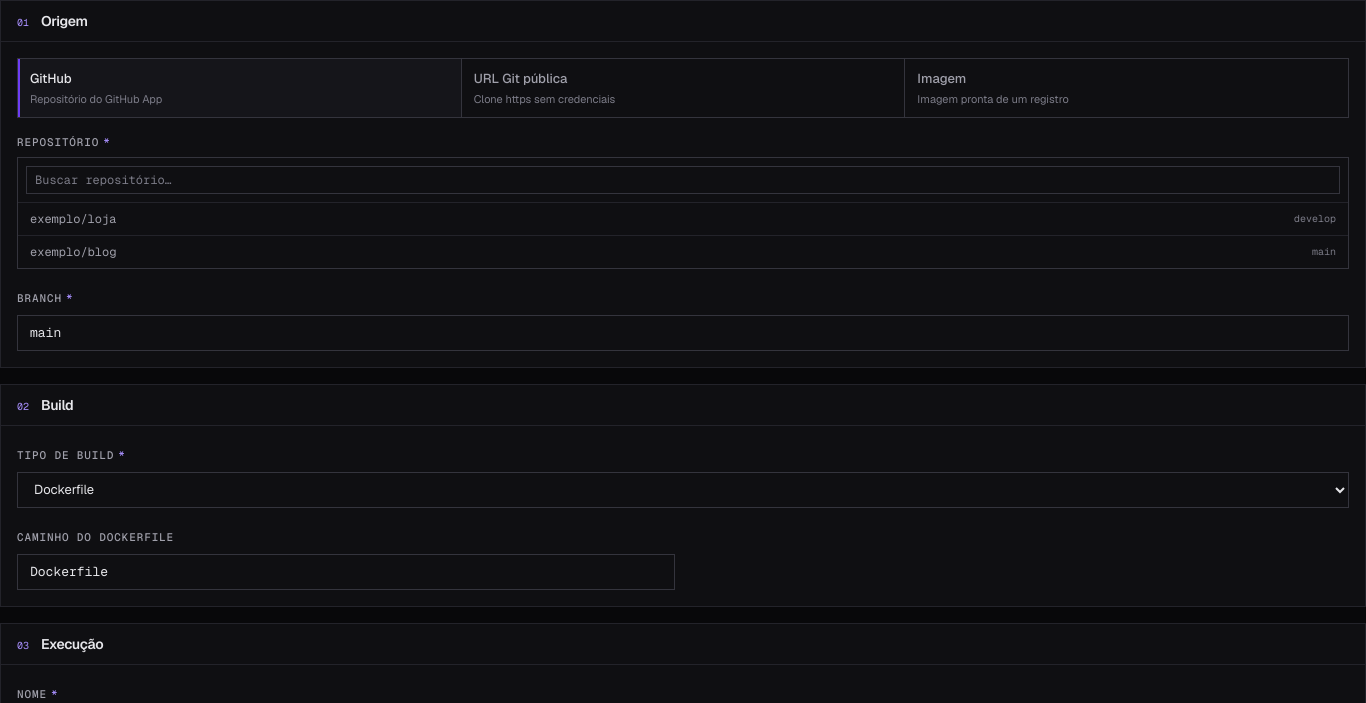
Test: AppForm › formulário mostra campos por origem e tipo de build
# Escolher o repositório preenche o branch padrão quando o branch está vazio.
Clear the field labelled "Branch *" at (683, 332), box [17,314,1349,350]
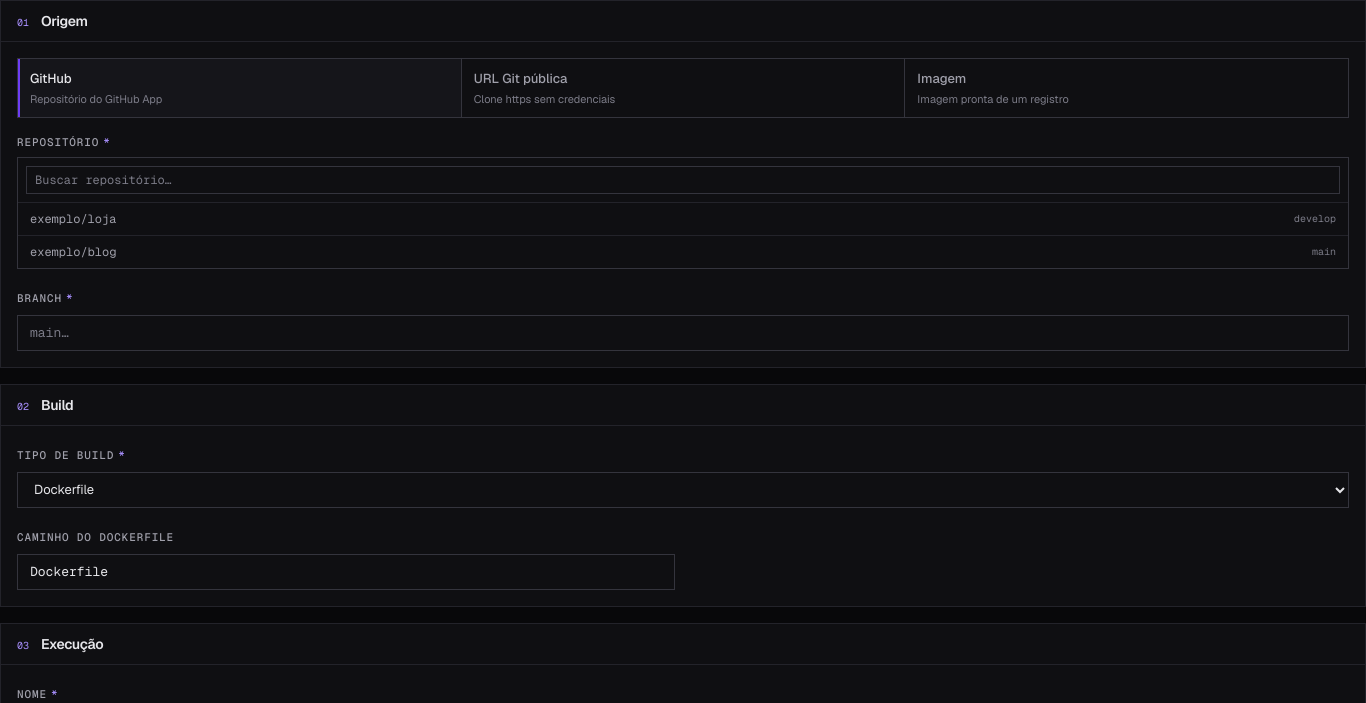
Click the button "exemplo/loja develop" at (73, 218), box [18,202,1348,234]
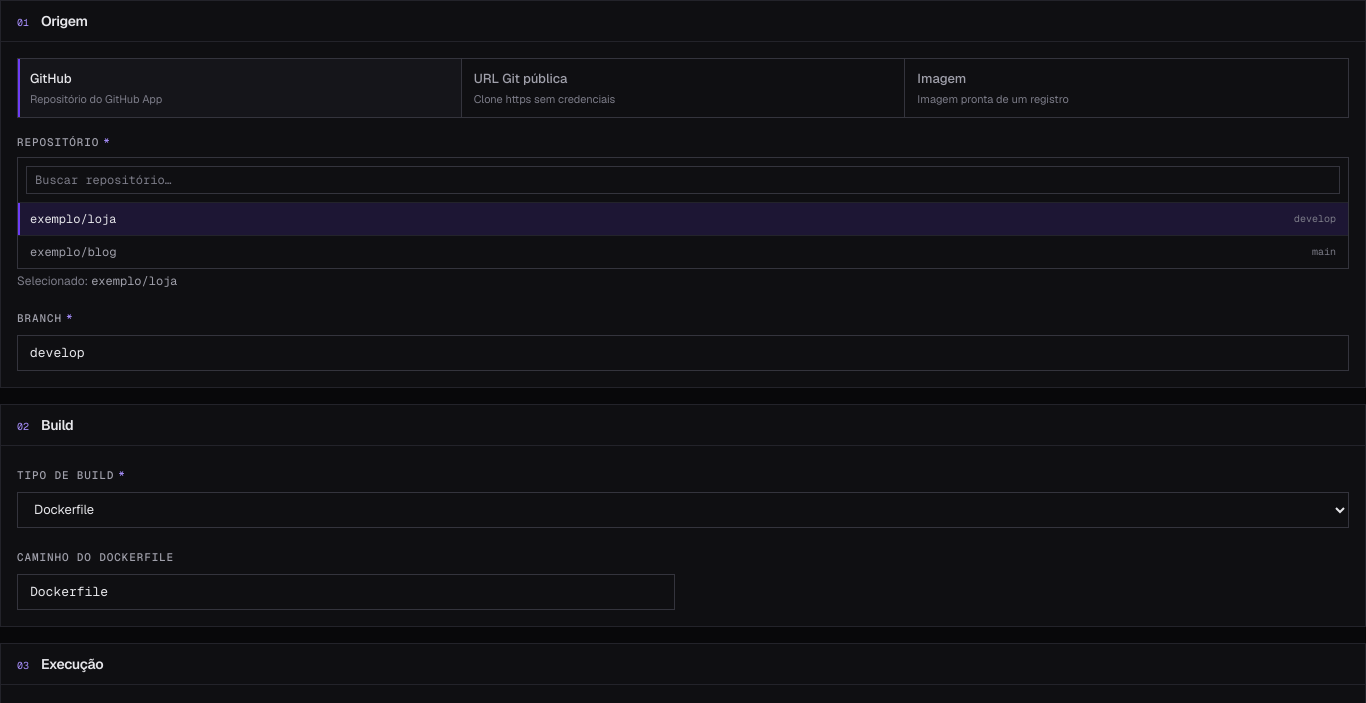
expect the field labelled "Branch *" holds "develop": met, box [17,334,1349,370]
Click the radio button labelled "URL Git pública Clone https sem credenciais" at (521, 78), box [462,59,904,117]
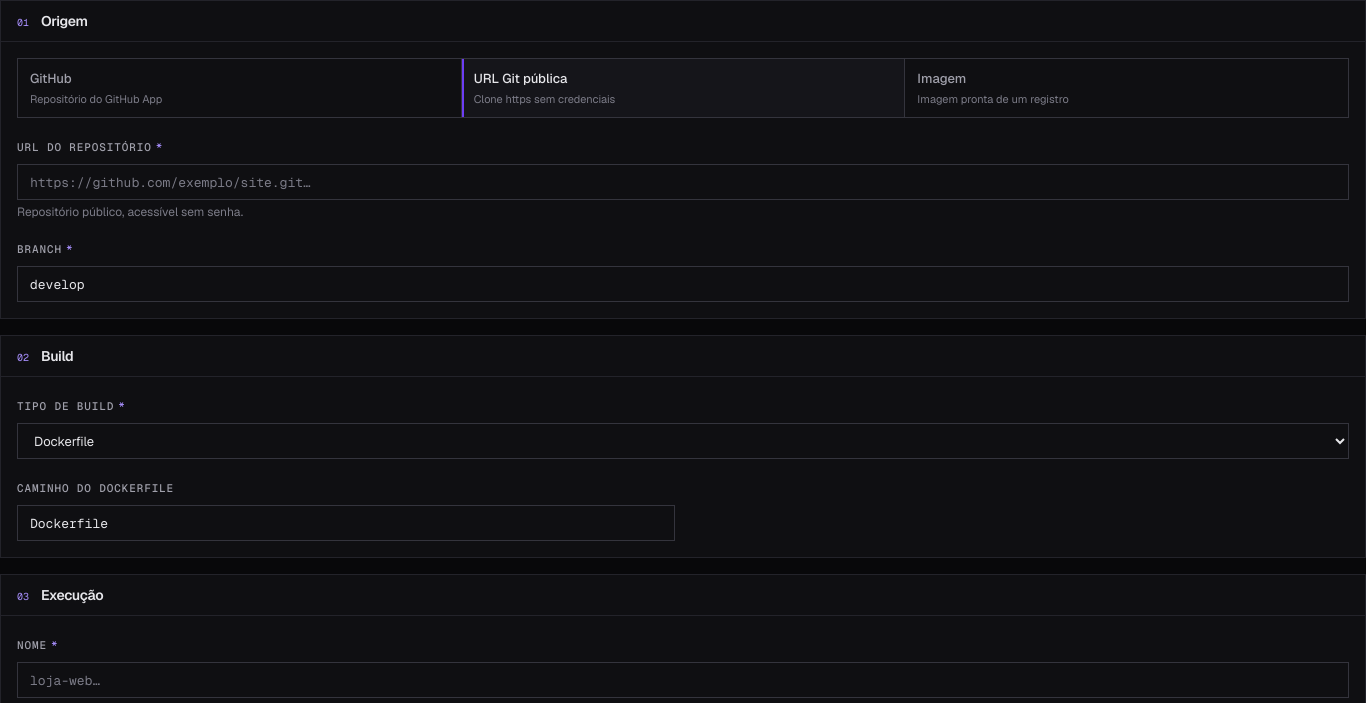
expect the field labelled "Caminho do Dockerfile" holds "Dockerfile": met, box [17,505,675,541]
expect the field labelled "URL do repositório *" is shown: met, box [17,164,1349,200]
# Compose: caminho do arquivo e serviço de entrada.
Select "Docker Compose" in the dropdown labelled "Tipo de build *" at (683, 441), box [17,423,1349,459]
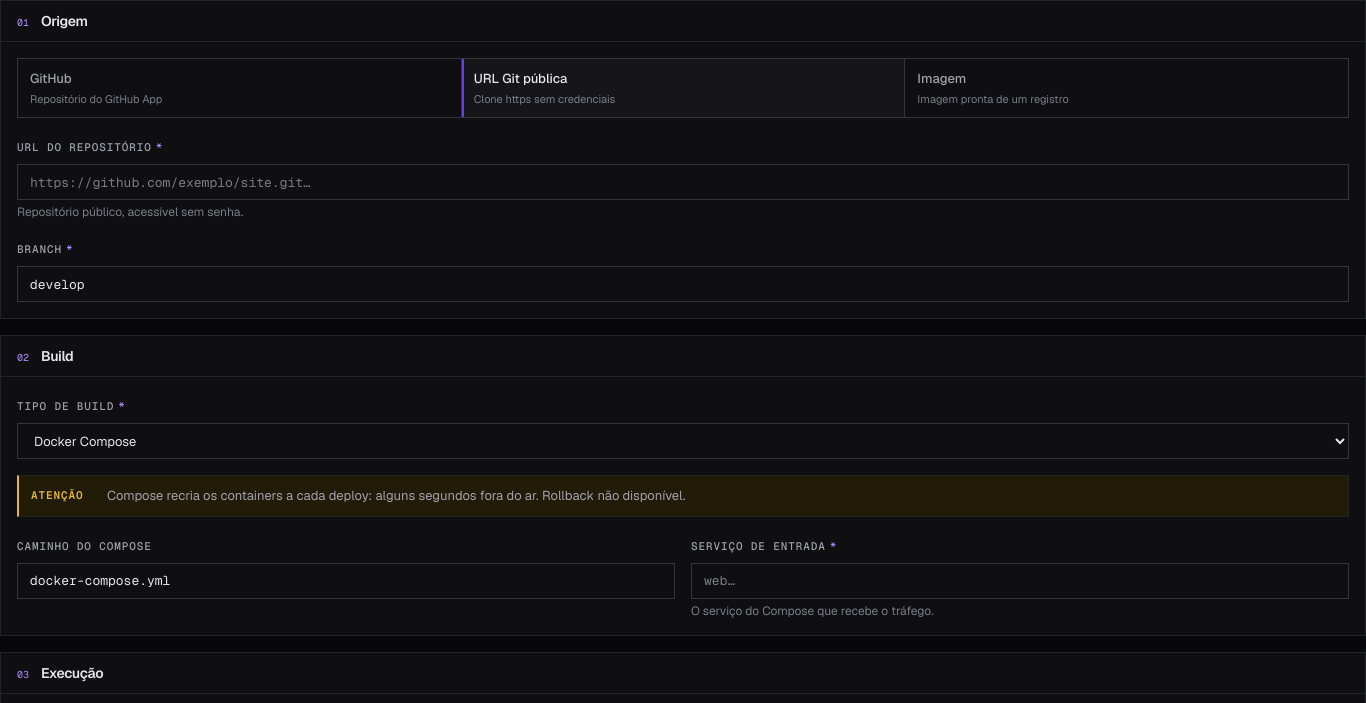
expect the field labelled "Caminho do Compose" holds "docker-compose.yml": met, box [17,562,675,598]
expect the field labelled "Serviço de entrada *" is shown: met, box [691,562,1349,598]
Click the radio button labelled "Imagem Imagem pronta de um registro" at (942, 78), box [905,59,1348,117]
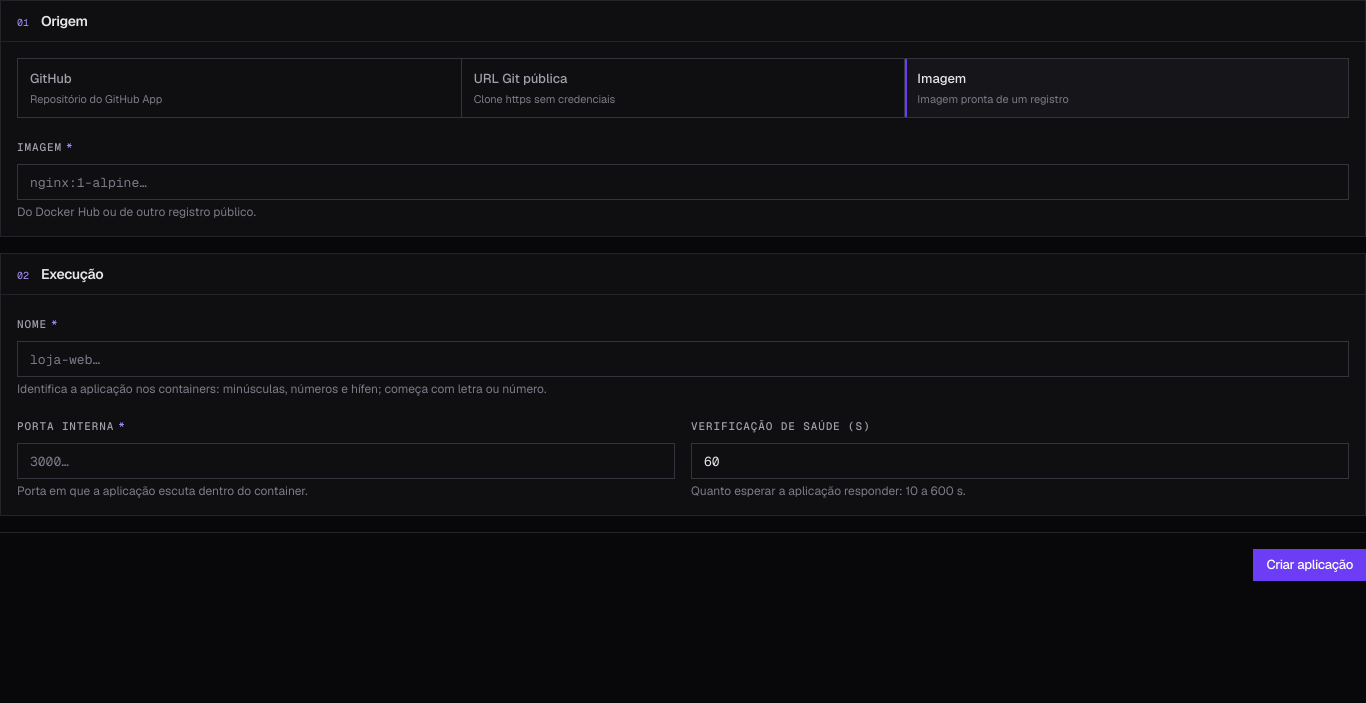
expect the field labelled "Imagem *" is shown: met, box [17,164,1349,200]
expect the label labelled "Branch" is gone: met
expect the label labelled "Tipo de build" is gone: met
